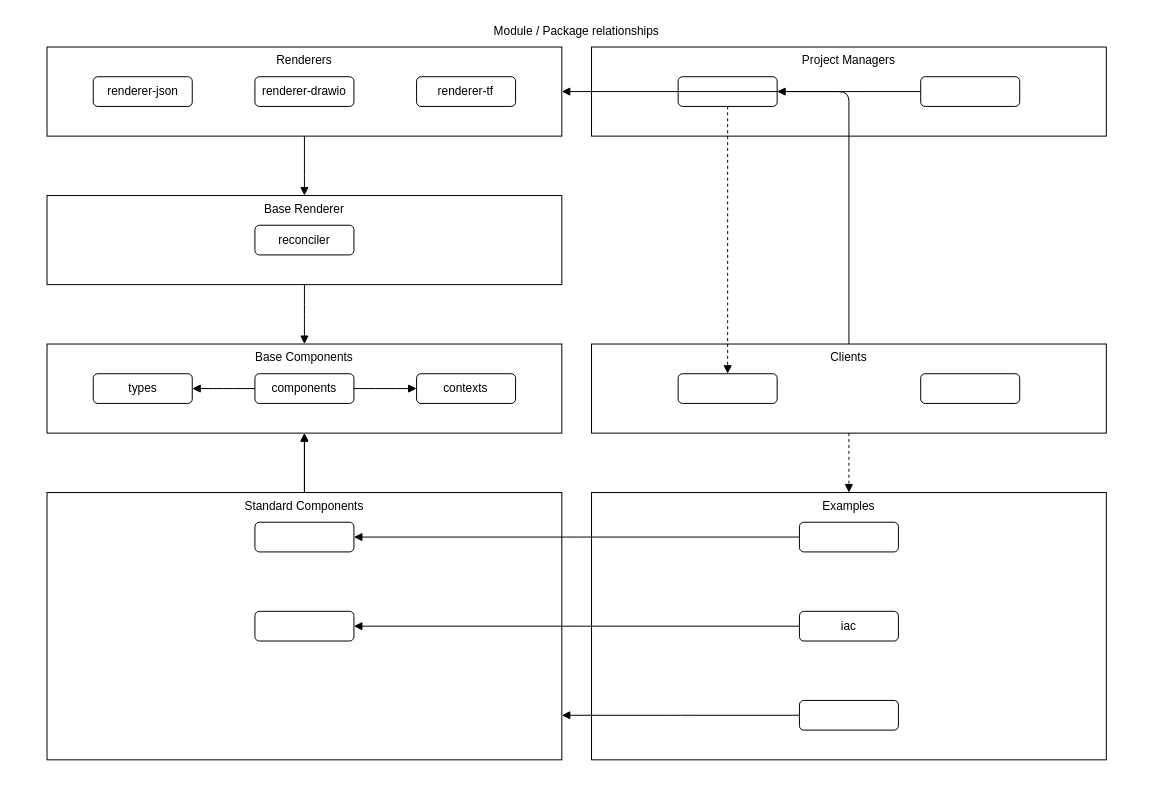
Some shapes in this 1152 by 806 pixel diagram are drawn without their labels. Each missing label, with the centre of its shape:
"actions" goes at (x=970, y=91).
"cli" goes at (x=727, y=388).
"diagram" goes at (x=848, y=536).
"playground" goes at (x=970, y=388).
"runner" goes at (x=727, y=91).
"standard-components-aws" goes at (x=304, y=625).
"standard-diagrams" goes at (x=304, y=536).
"web" goes at (x=848, y=714).
